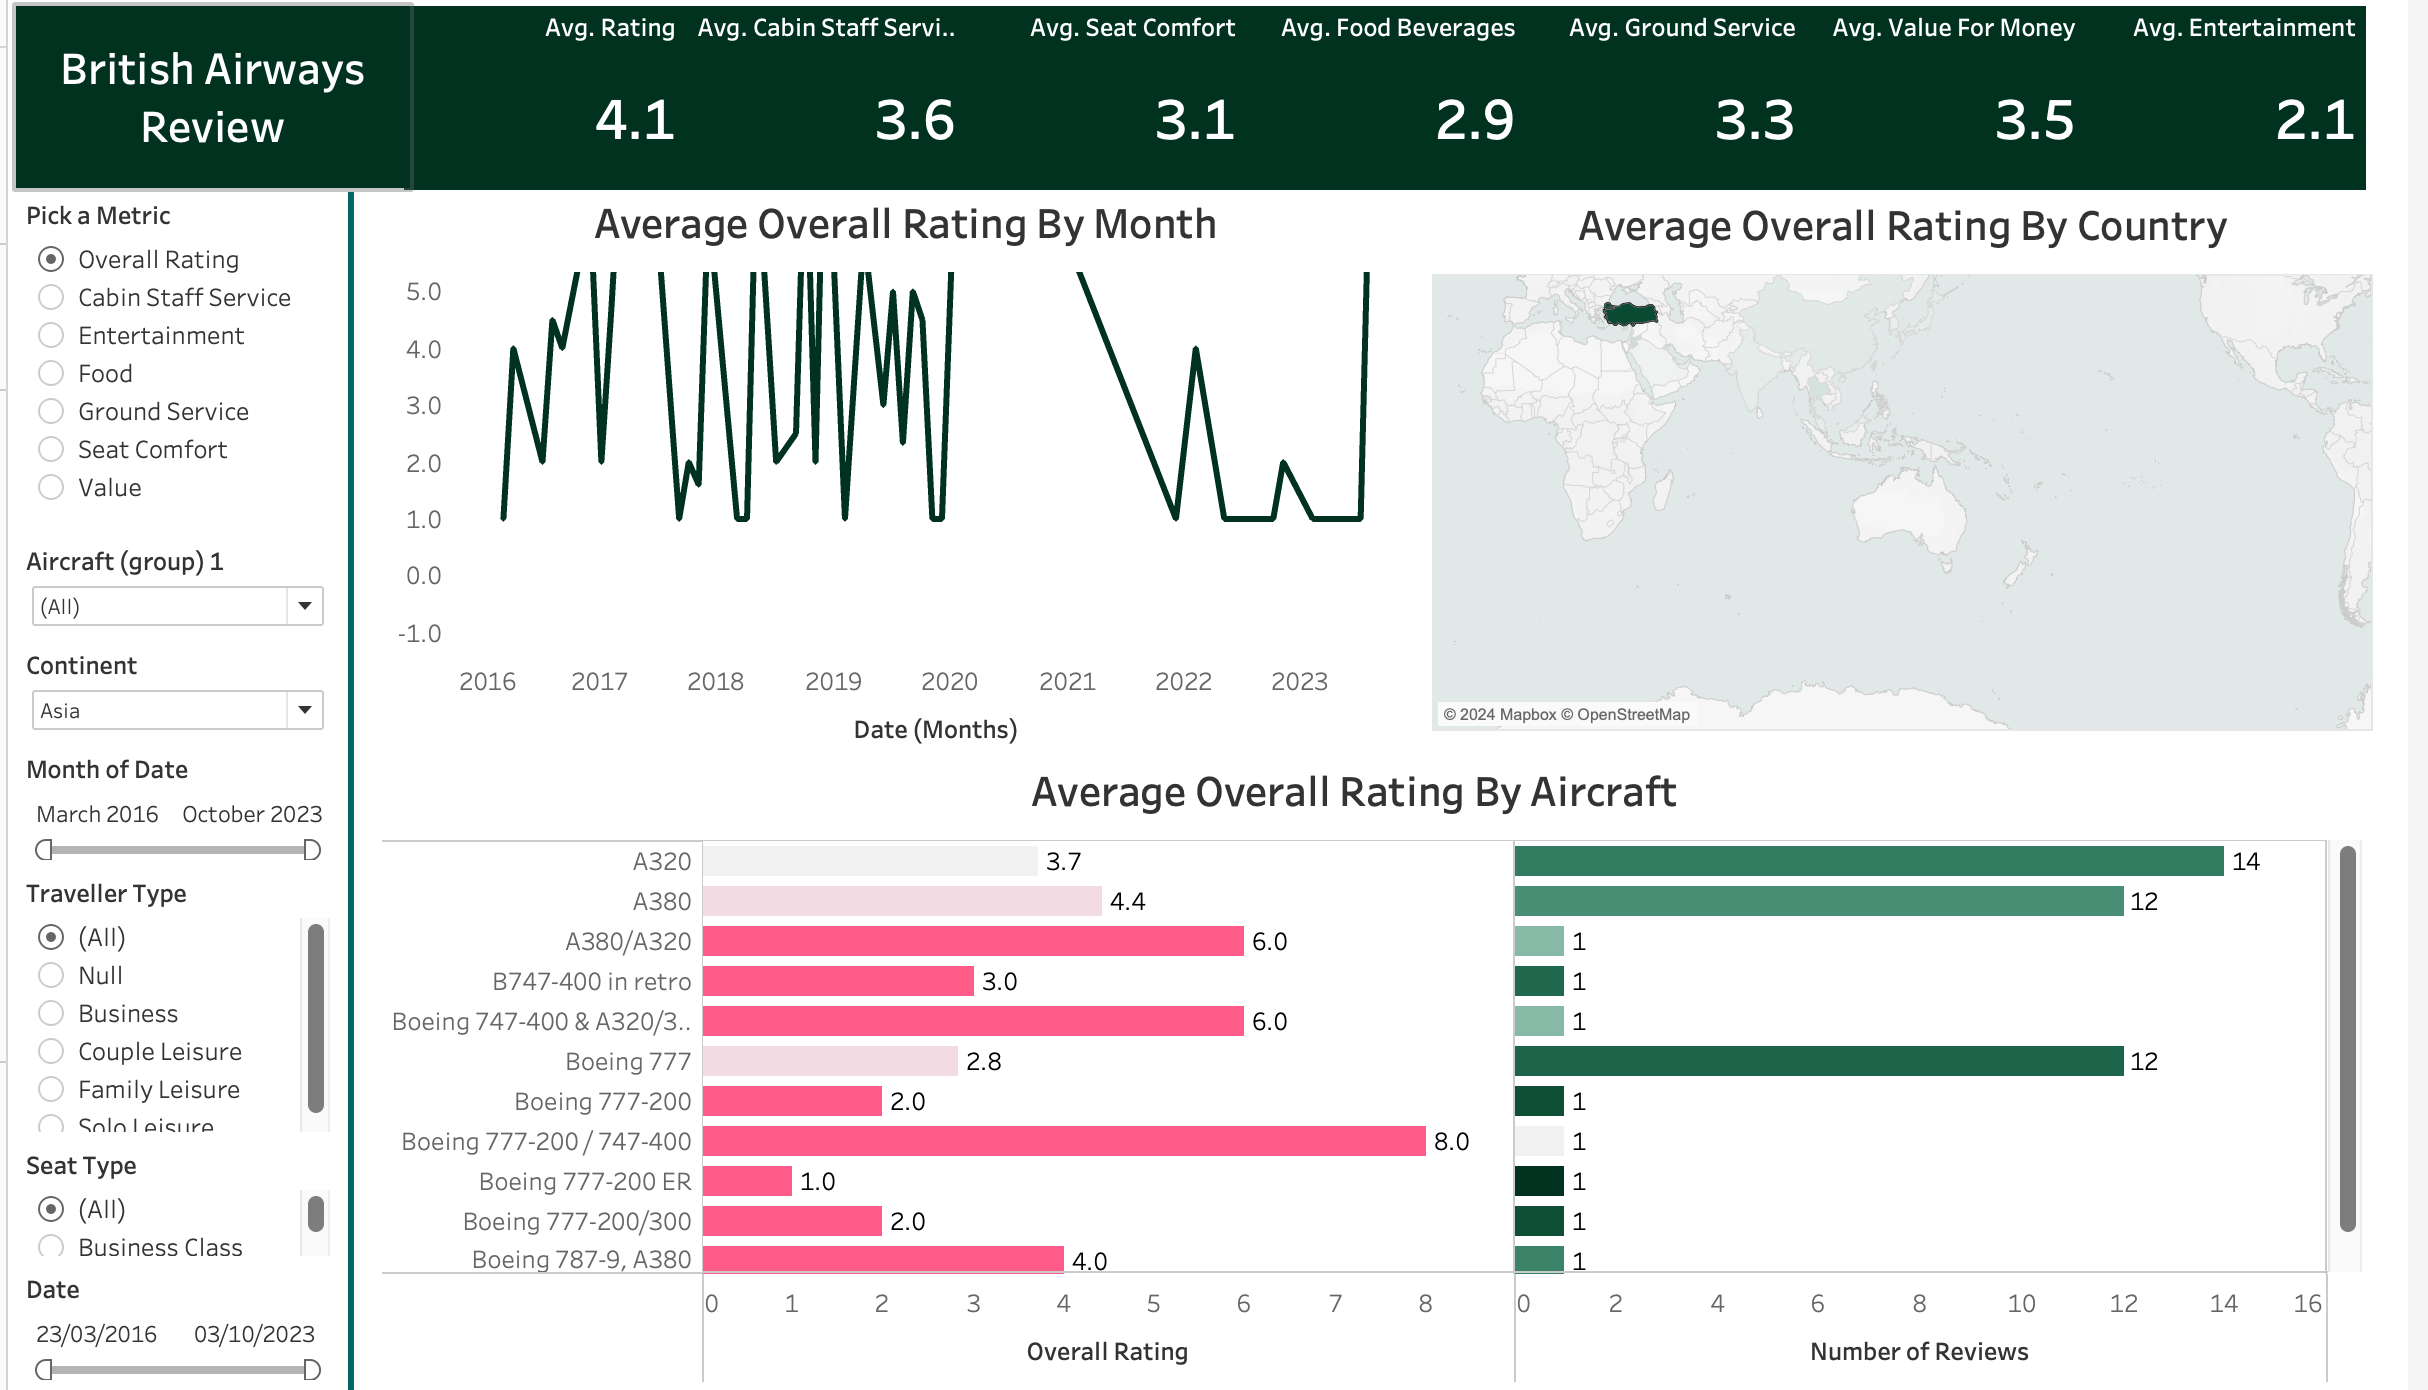

What the dashboard file says about the page in this screenshot:
{"tool":"tableau","page":{"name":"Dashboard - British Airways Review","canvas":[1200,700],"ordinal":0},"visuals":[{"type":"text","box":[4,8,197,91]},{"type":"worksheet","title":"Summary","mark":"Automatic","box":[198,8,986,101]},{"type":"worksheet","title":"Month","mark":"Automatic","rows":["Calculation_5159928955741446144"],"cols":["Date (Months)"],"box":[194,98,510,287]},{"type":"worksheet","title":"Map","mark":"Automatic","box":[712,99,471,272]},{"type":"parameter","param":"[Parameters].[Parameter 1]","box":[5,100,160,173]},{"type":"filter","title":"Map","param":"[federated.0v9qoj40um33dk1bwkdsx06n5vb3].[Aircraft (group) 1]","box":[5,273,160,52]},{"type":"filter","title":"Map","param":"[federated.0v9qoj40um33dk1bwkdsx06n5vb3].[none:Continent:nk]","box":[5,325,160,52]},{"type":"filter","title":"Map","param":"[federated.0v9qoj40um33dk1bwkdsx06n5vb3].[tmn:date:qk]","box":[5,377,160,62]},{"type":"worksheet","title":"Aircraft","mark":"Automatic","cols":["Calculation_5159928955741446144","ba_reviews.csv_B5F54963F4D8471CAFDCA9950ED91B03"],"box":[187,382,991,315]},{"type":"filter","title":"Map","param":"[federated.0v9qoj40um33dk1bwkdsx06n5vb3].[none:traveller_type:nk]","box":[5,439,160,136]},{"type":"filter","title":"Map","param":"[federated.0v9qoj40um33dk1bwkdsx06n5vb3].[none:seat_type:nk]","box":[5,575,160,62]},{"type":"filter","title":"Month","param":"[federated.0v9qoj40um33dk1bwkdsx06n5vb3].[none:date:qk]","box":[5,637,160,62]}]}

Visuals, with their boxes in screenshot pixels (x1, y1, x2, y2), scaled from the page's 1200x700 canvas onto the 2428x1390 screenshot:
text: crop(8, 16, 407, 197)
"Summary" worksheet: crop(401, 16, 2396, 216)
"Month" worksheet: crop(393, 195, 1424, 764)
"Map" worksheet: crop(1441, 197, 2394, 737)
parameter: crop(10, 199, 334, 542)
"Map" filter: crop(10, 542, 334, 645)
"Map" filter: crop(10, 645, 334, 749)
"Map" filter: crop(10, 749, 334, 872)
"Aircraft" worksheet: crop(378, 759, 2383, 1384)
"Map" filter: crop(10, 872, 334, 1142)
"Map" filter: crop(10, 1142, 334, 1265)
"Month" filter: crop(10, 1265, 334, 1388)
